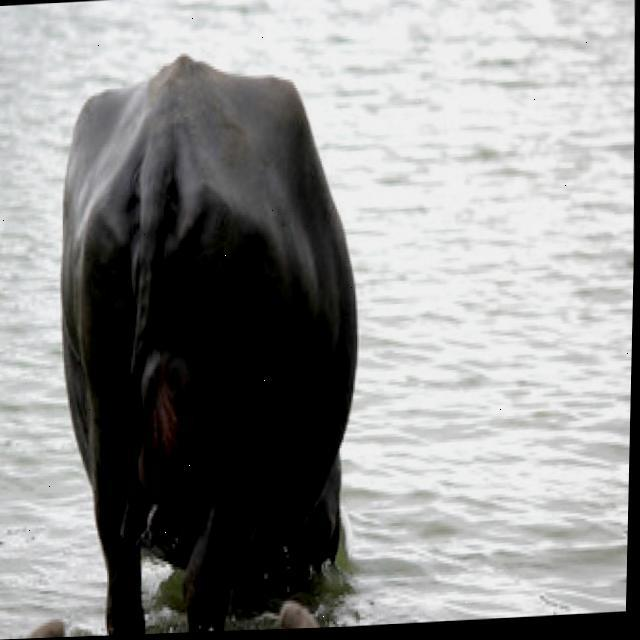Buffalo: (31, 43, 378, 638)
